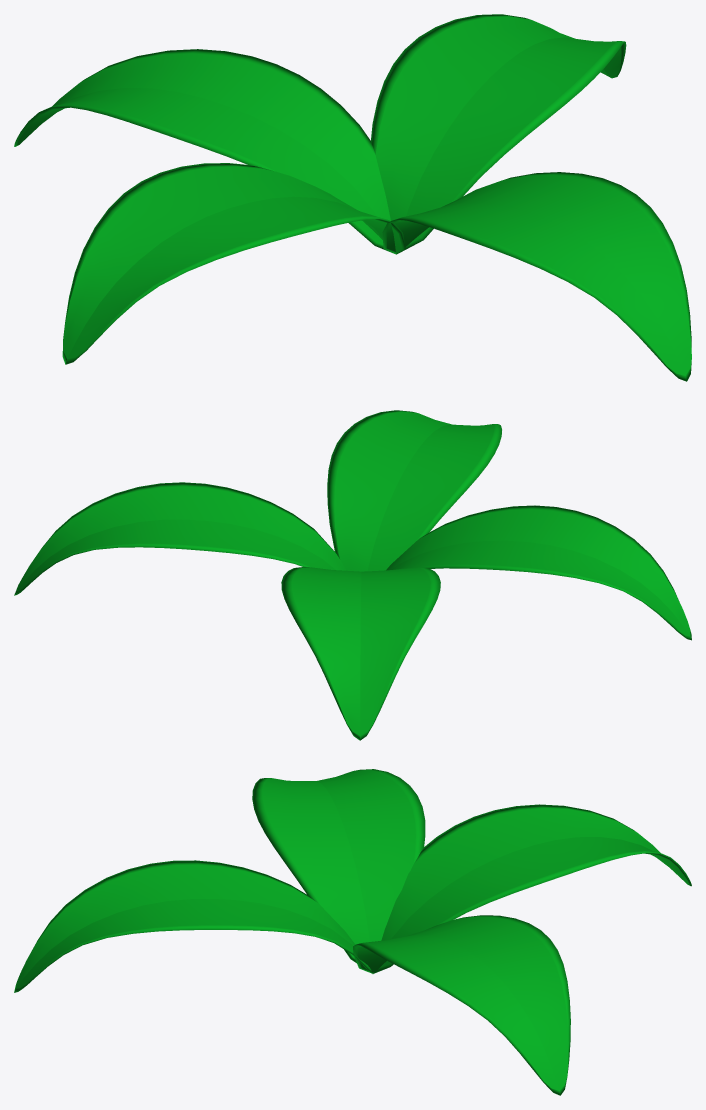
Rendered from PalmGrass3.fbx.
3 renders of one model, top to bottom at view 1: azimuth 30°, elevation 25°; view 2: azimuth 150°, elevation 25°; view 3: azimuth 270°, elevation 25°, orthographic. The views are drawn at different scales.
Parts seen in each view (by area): view 1: PalmGrass3; view 2: PalmGrass3; view 3: PalmGrass3.
Boxes of the visible parts, x1,y1,x2,y2 form: PalmGrass3: (14,14,691,381); PalmGrass3: (14,410,691,740); PalmGrass3: (14,769,691,1095).
Size of the model in its own units: 5.76 by 5.79 by 0.8894.
